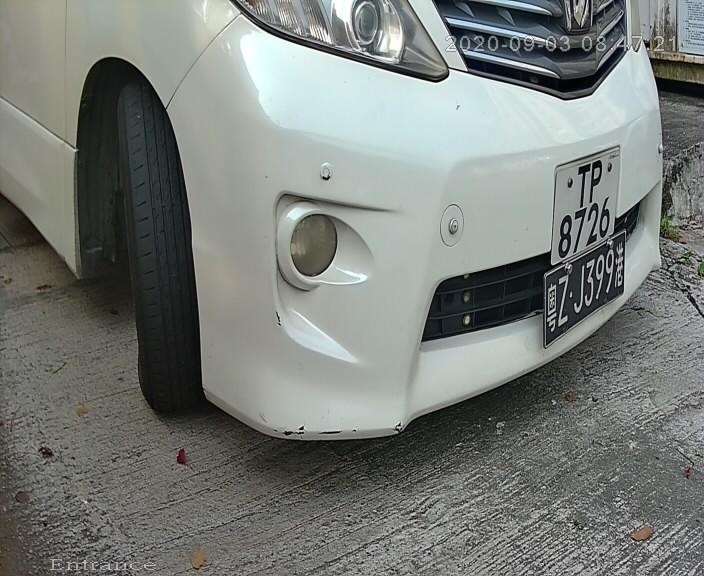License Plate: (541, 147, 623, 289)
